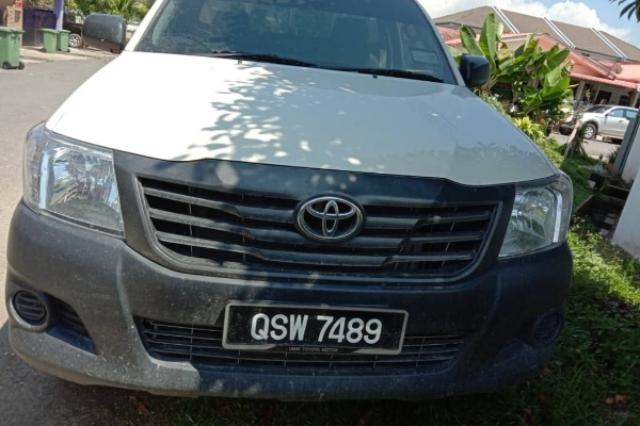License_Plate: (224, 305, 409, 356)
car: (3, 2, 597, 399)
